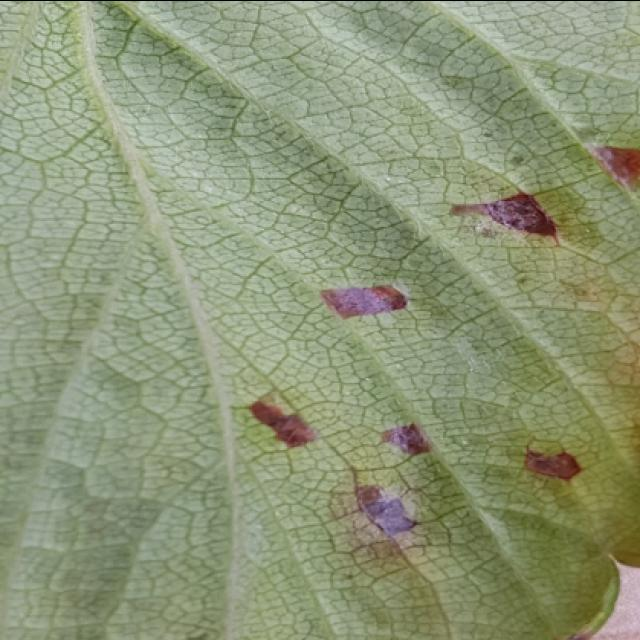Angular Leafspot: (238, 111, 638, 638)
